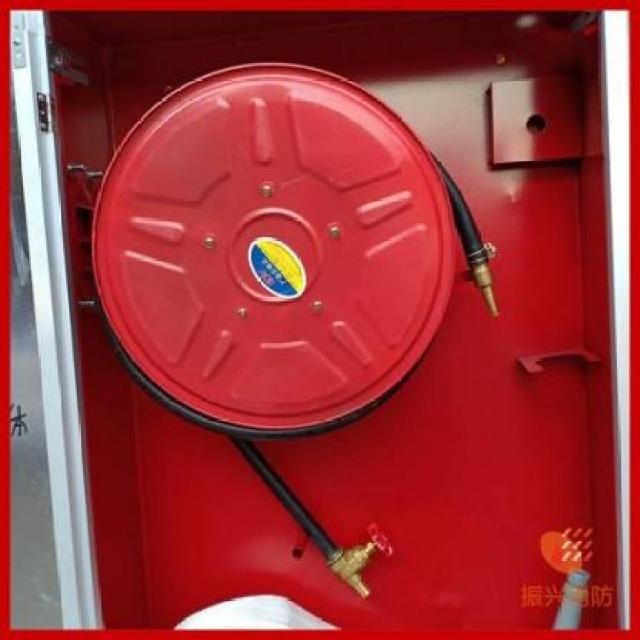firehydrant: (12, 8, 630, 632)
